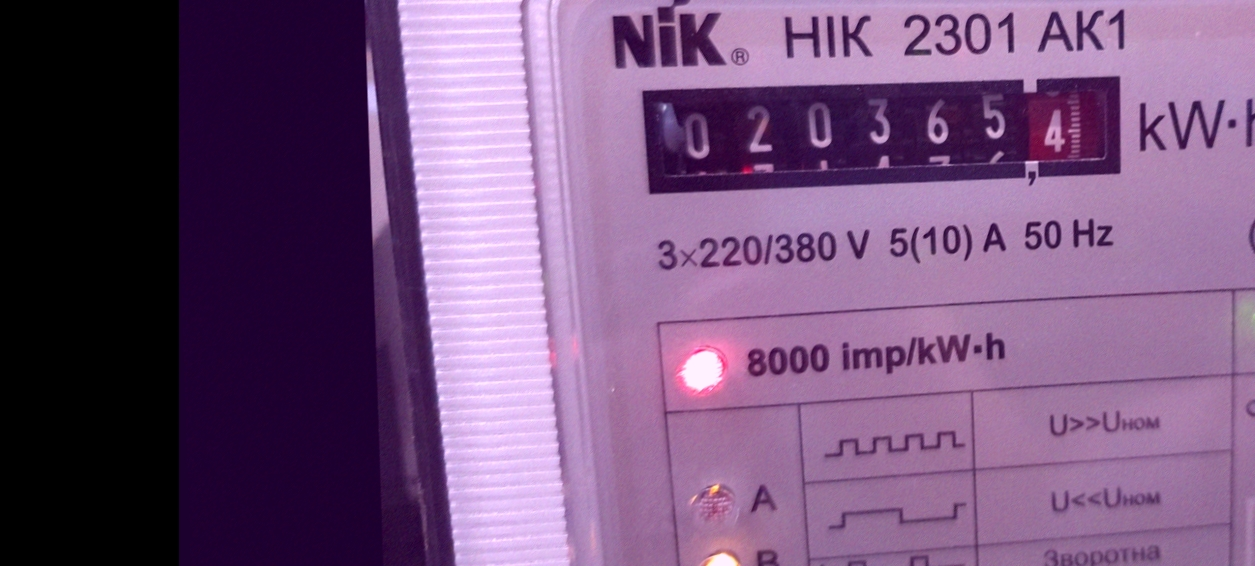0: (679, 105, 714, 161), (804, 98, 836, 148)
2: (743, 100, 775, 152)
3: (864, 94, 894, 144)
4: (1041, 103, 1065, 152)
5: (981, 90, 1009, 138)
6: (923, 92, 950, 143)
screen: (628, 54, 1139, 208)
